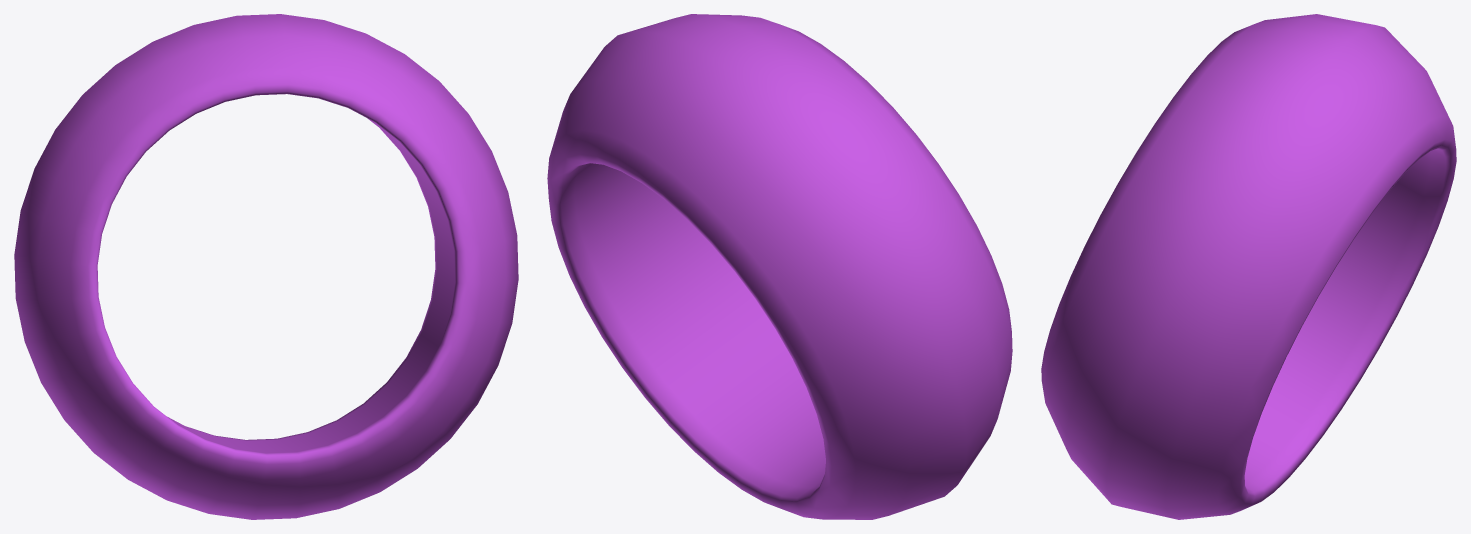
3 renders of one model, left to right at view 1: azimuth 30°, elevation 25°; view 2: azimuth 150°, elevation 25°; view 3: azimuth 270°, elevation 25°, orthographic. The views are drawn at different scales.
Parts seen in each view (by area): view 1: AM155_021_06; view 2: AM155_021_06; view 3: AM155_021_06.
Part boxes in pixels (x1,y1,x2,y2): AM155_021_06: (14,14,518,519); AM155_021_06: (547,14,1012,519); AM155_021_06: (1041,14,1456,519).
Size of the model in its own units: 5.28 by 5.29 by 4.23.
